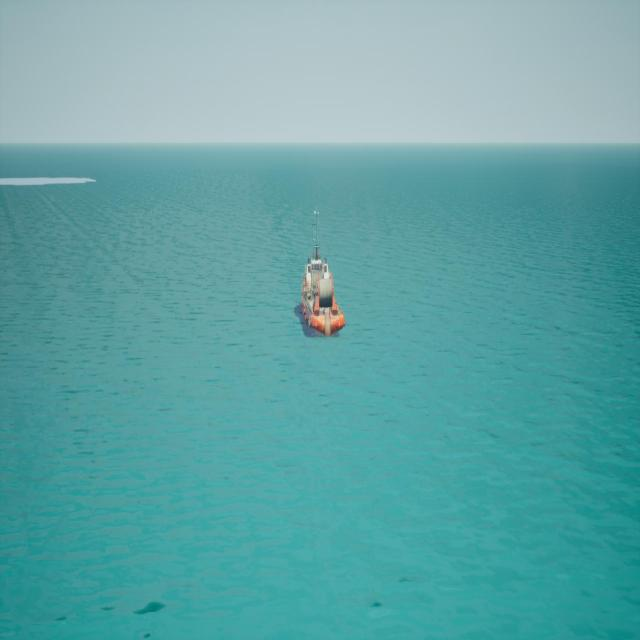tug boat: (299, 211, 345, 339)
